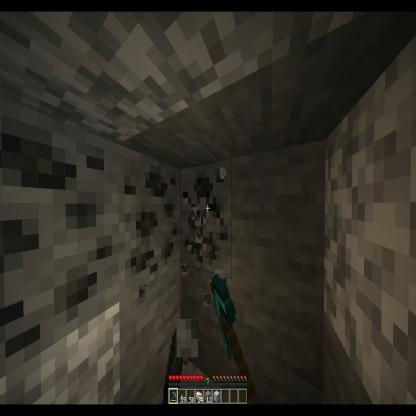coal ore: (0, 104, 123, 377), (120, 140, 182, 288), (175, 149, 239, 283)
